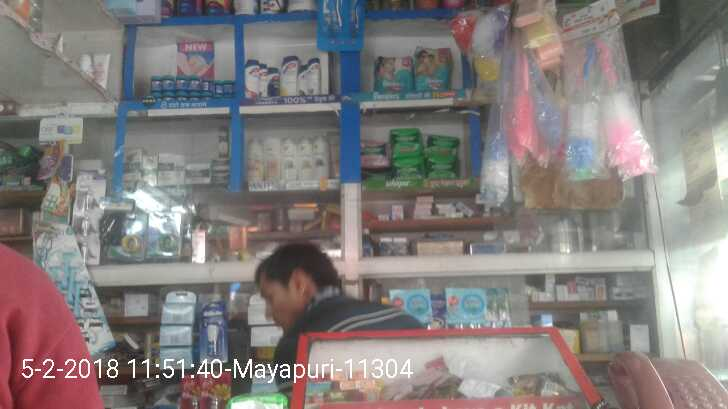vicks: (149, 74, 234, 98)
